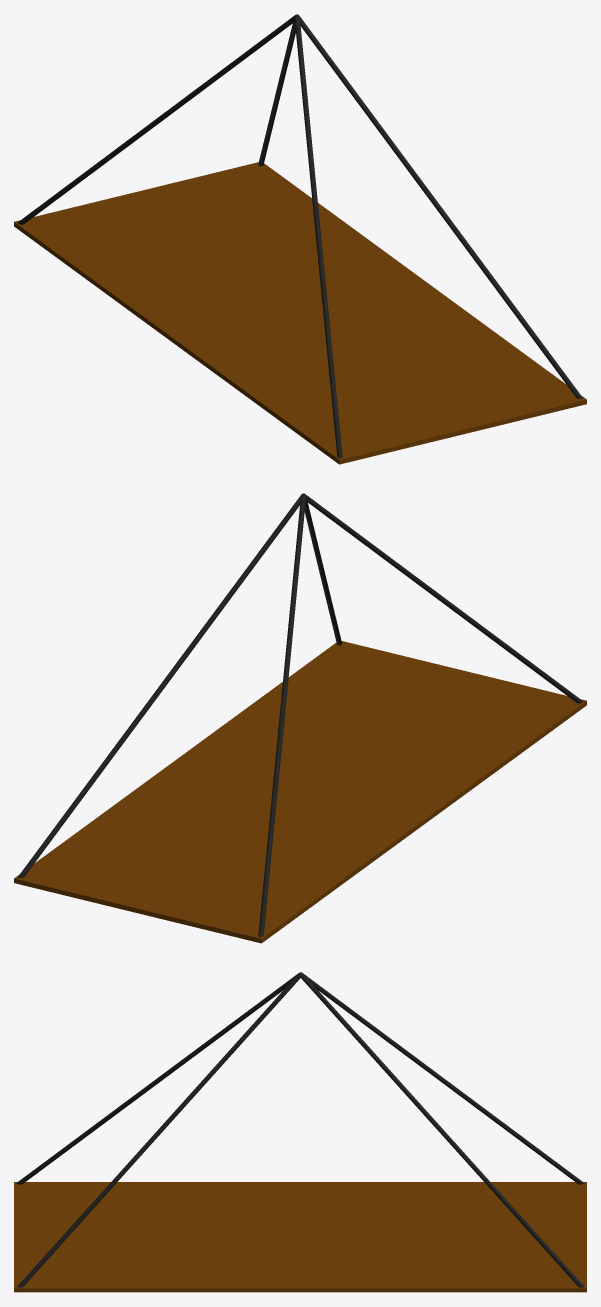
File: crane extension.fbx
The picture shows the model from 3 angles, top to bottom: view 1: azimuth 30°, elevation 25°; view 2: azimuth 150°, elevation 25°; view 3: azimuth 270°, elevation 25°; orthographic projection. The views are drawn at different scales.
Parts seen in each view (by area): view 1: Plane.001, Cylinder.001, Cylinder.002, Cylinder.003, Cylinder.004; view 2: Plane.001, Cylinder.004, Cylinder.003, Cylinder.002, Cylinder.001; view 3: Plane.001, Cylinder.001, Cylinder.004, Cylinder.003, Cylinder.002.
Part boxes in pixels (box(x1,y1,x2,y2)): Plane.001: box(14, 162, 586, 464); Cylinder.001: box(298, 15, 583, 399); Cylinder.002: box(294, 15, 342, 458); Cylinder.003: box(17, 14, 296, 224); Cylinder.004: box(258, 14, 298, 166); Plane.001: box(14, 641, 586, 943); Cylinder.004: box(17, 494, 302, 878); Cylinder.003: box(258, 495, 305, 937); Cylinder.002: box(304, 493, 583, 703); Cylinder.001: box(302, 493, 342, 645); Plane.001: box(14, 1182, 586, 1292); Cylinder.001: box(16, 973, 300, 1291); Cylinder.004: box(300, 973, 584, 1287); Cylinder.003: box(300, 972, 584, 1184); Cylinder.002: box(16, 972, 300, 1184).
Bounding box in the file's own units: 18.04 × 21.02 × 41.02.
